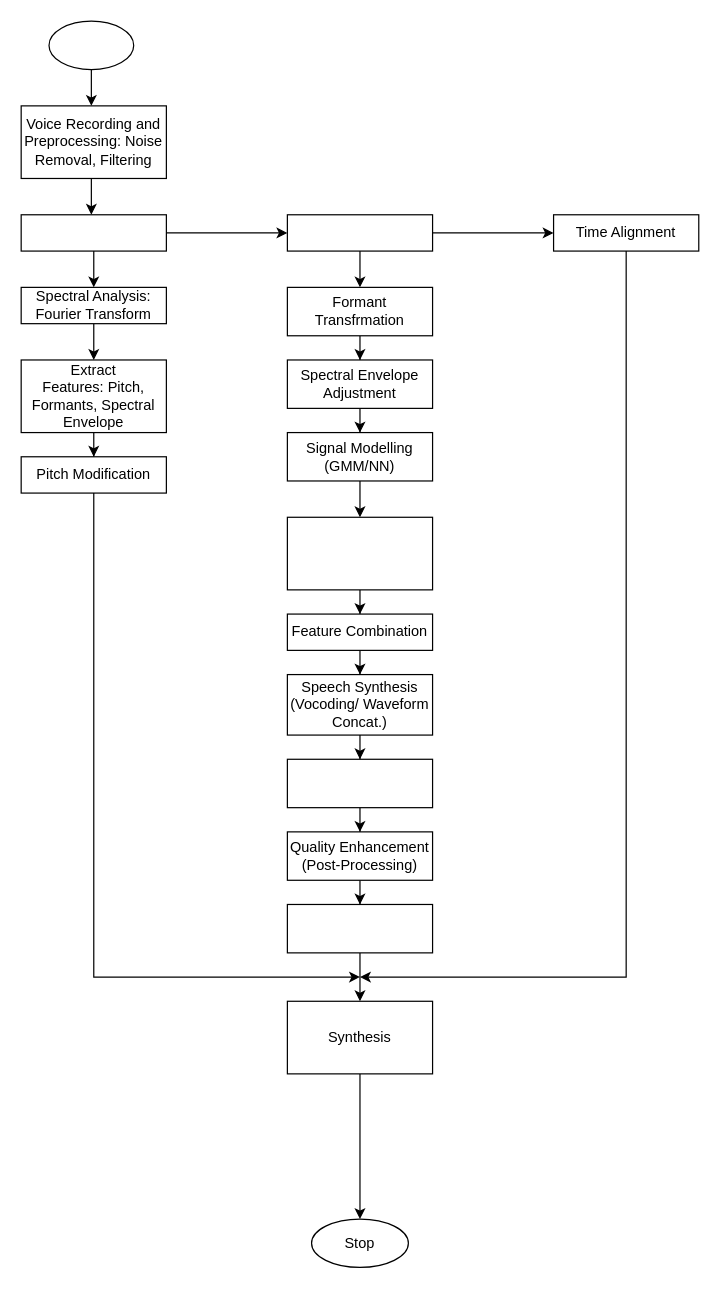
Some shapes in this 720 by 1289 pixel diagram are drawn without their labels. The centre of each missing label's shape, as x and y in pixels:
Dynamic TIme Warping (Time Alignment): (359,553)
Evaluation (Listening Tests, Measures): (359,928)
Feature Extraction: (93,232)
Normalize Amplitude/Loudness: (359,783)
Start: (91,45)
Voice Conversion: (359,232)
